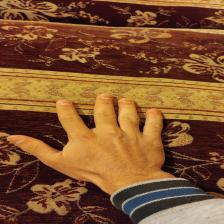five: (12, 95, 178, 175)
